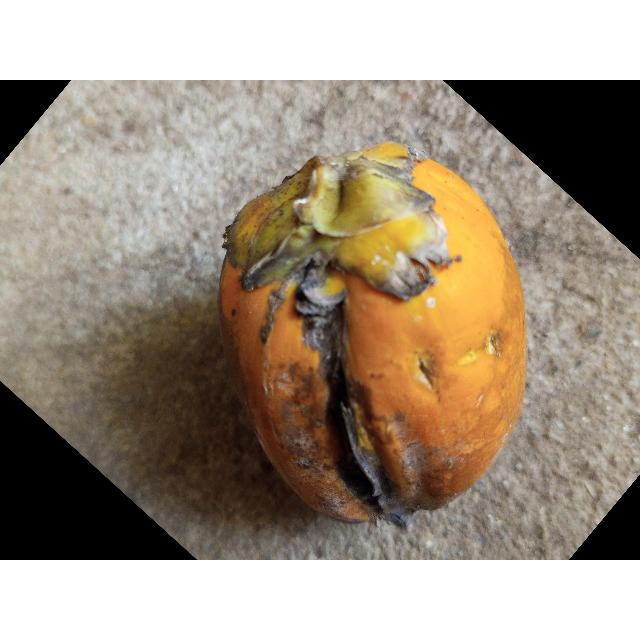damaged: (218, 143, 528, 527)
